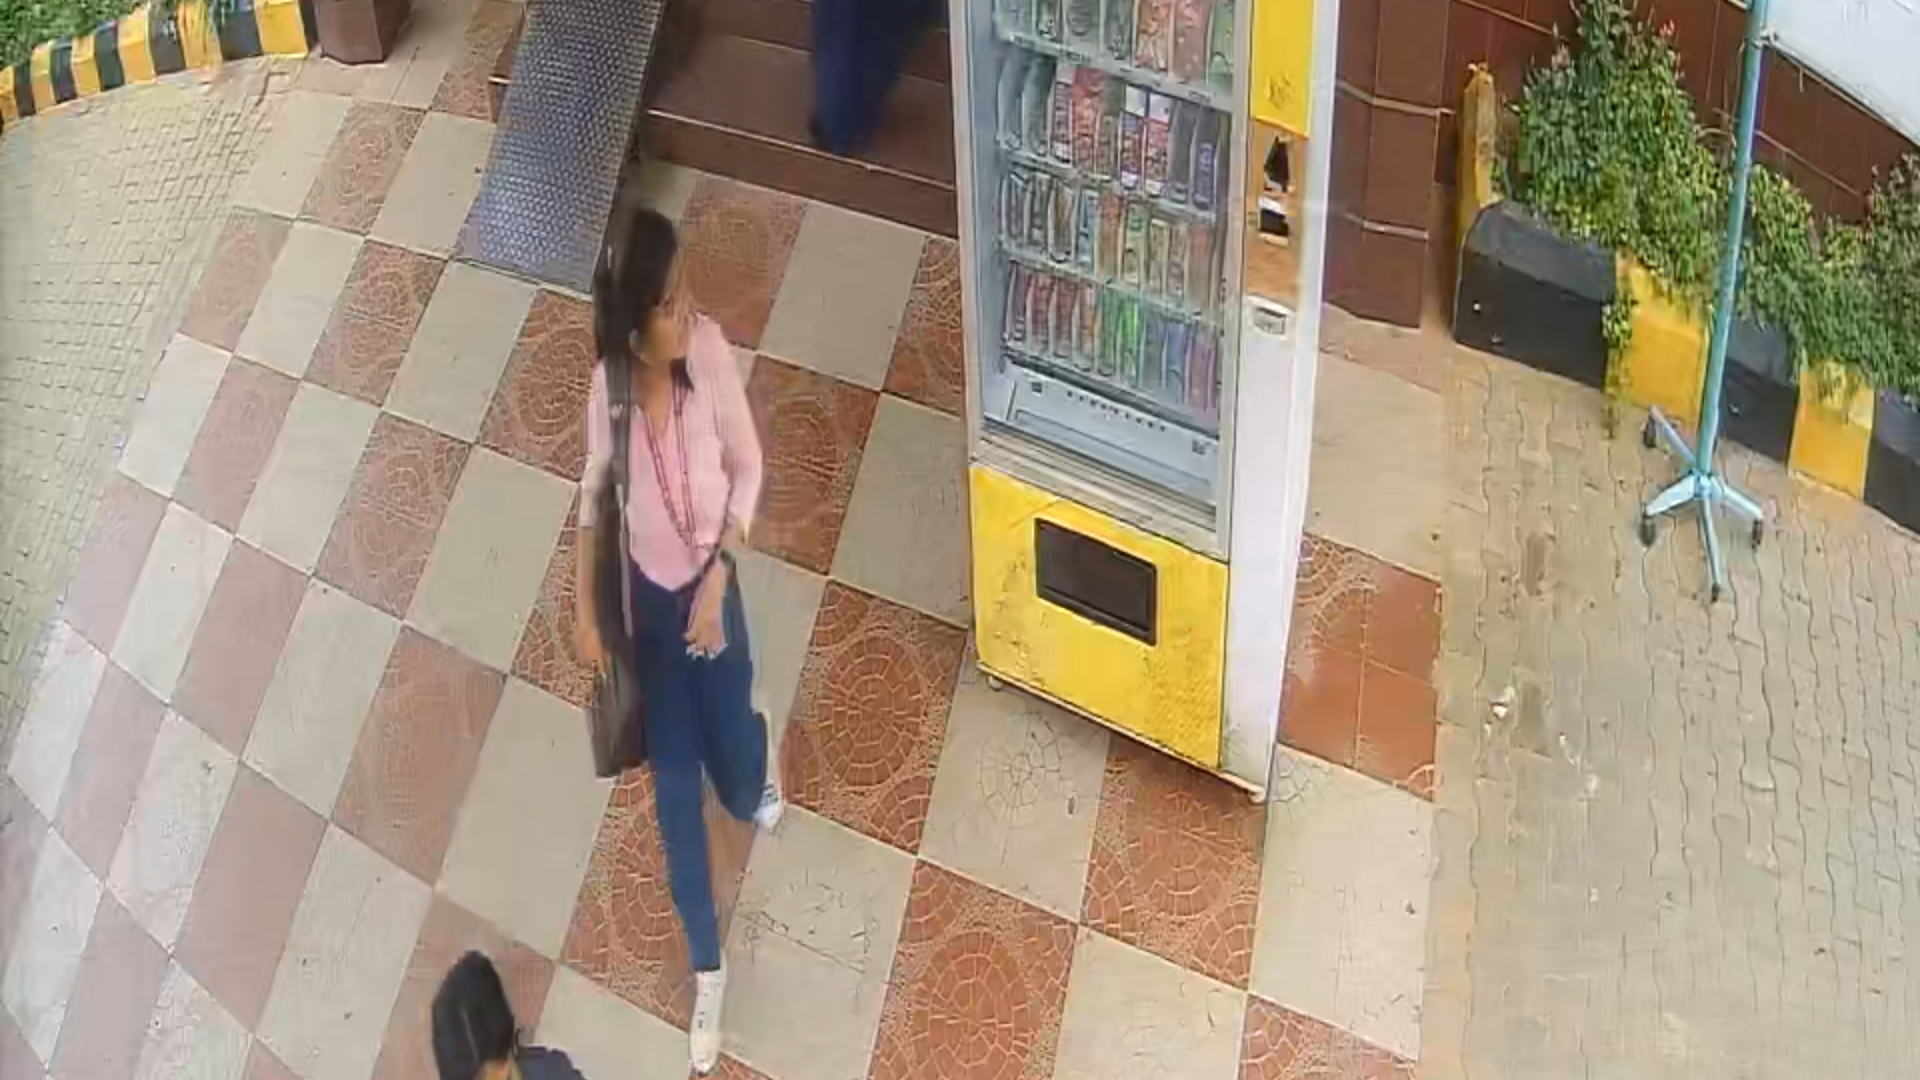not intruder: (560, 202, 837, 1080)
